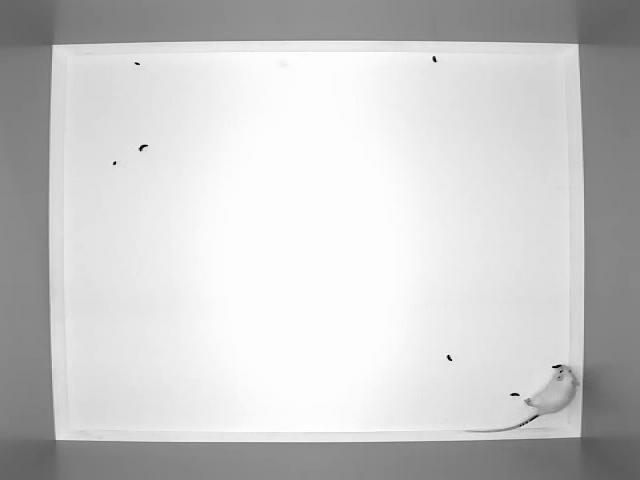Tikus: (464, 364, 583, 434)
